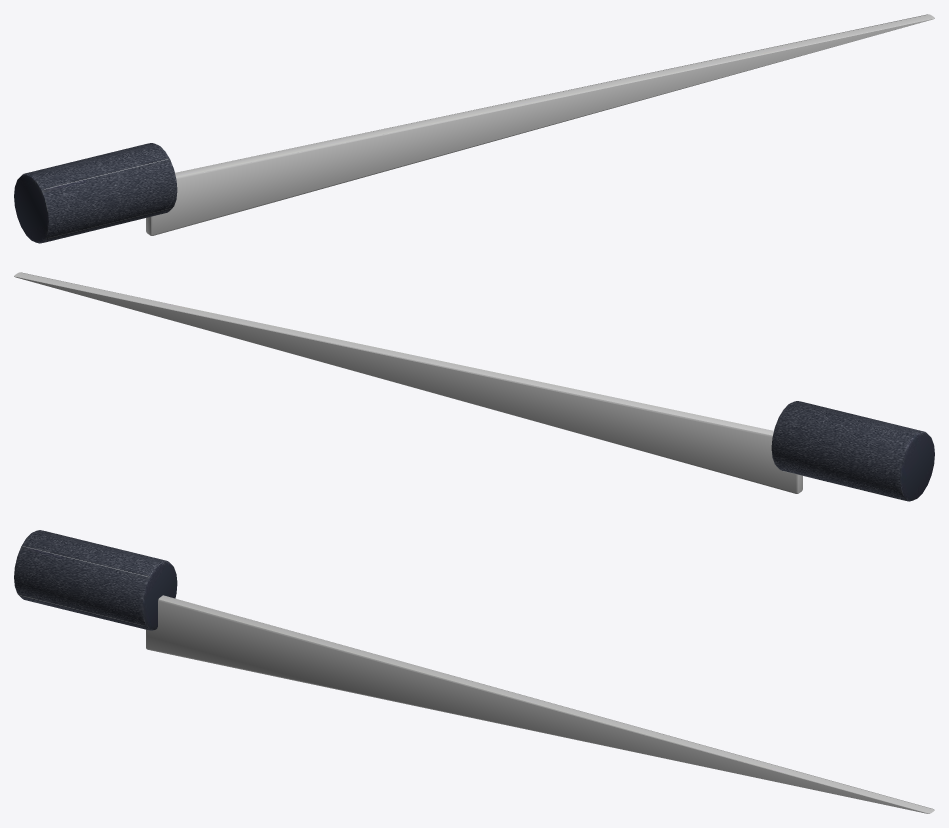
The model's file is att_bayonet.glb.
The picture shows the model from 3 angles, top to bottom: view 1: azimuth 30°, elevation 25°; view 2: azimuth 150°, elevation 25°; view 3: azimuth 330°, elevation 25°; orthographic projection.
Parts seen in each view (by area): view 1: blade, socket; view 2: blade, socket; view 3: blade, socket.
Part boxes in pixels (x1=…): blade: x1=146, y1=14, x2=934, y2=235; socket: x1=14, y1=143, x2=177, y2=243; blade: x1=14, y1=272, x2=802, y2=493; socket: x1=771, y1=401, x2=934, y2=501; blade: x1=146, y1=595, x2=934, y2=813; socket: x1=14, y1=530, x2=177, y2=630.
Bounding box in the file's own units: 0.345 × 0.032 × 0.024.
Materials: 1 (1 with a texture image).
